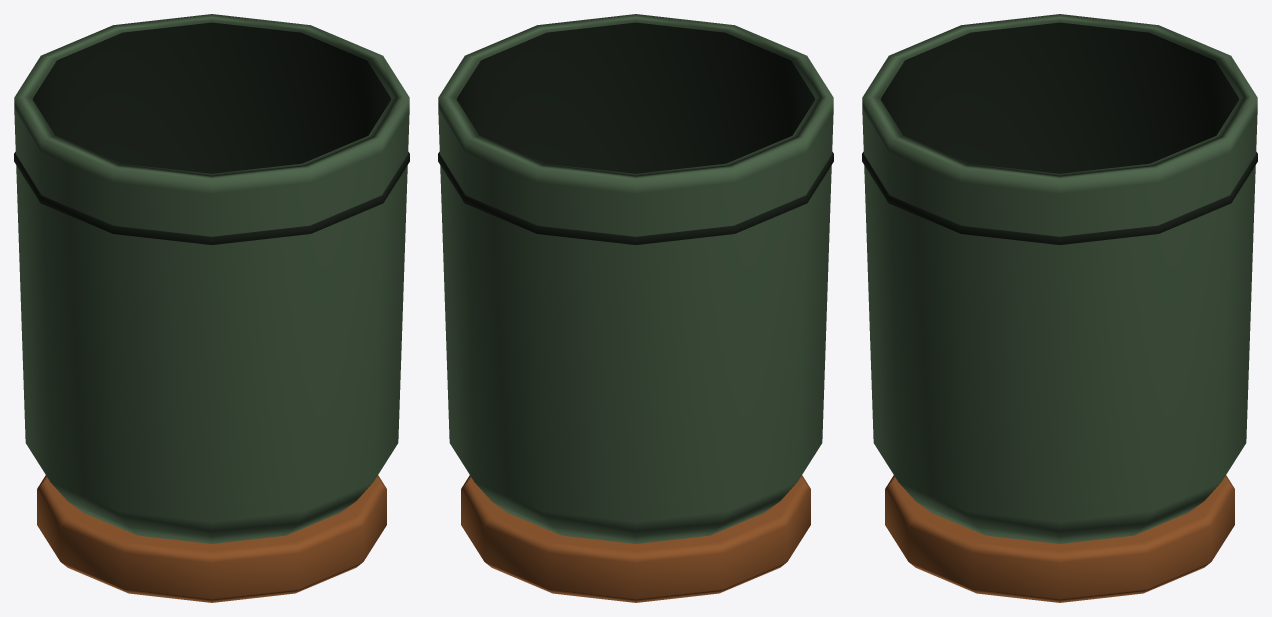
Rendered from modern_pot.obj.
3 views of the same model, side by side, from view 1: azimuth 30°, elevation 25°; view 2: azimuth 150°, elevation 25°; view 3: azimuth 270°, elevation 25° (orthographic).
Parts seen in each view (by area): view 1: body, cavity, plinth, groove; view 2: body, cavity, plinth, groove; view 3: body, cavity, plinth, groove.
Part boxes in pixels (x1,y1,x2,y2): body: (14,14,409,543); cavity: (33,22,390,173); plinth: (37,475,386,602); groove: (14,152,409,244); body: (438,14,833,543); cavity: (457,22,814,173); plinth: (461,475,810,602); groove: (438,152,833,244); body: (862,14,1257,543); cavity: (881,22,1238,173); plinth: (885,475,1234,602); groove: (862,152,1257,244).
Size of the model in its own units: 0.2804 by 0.34 by 0.2804.
